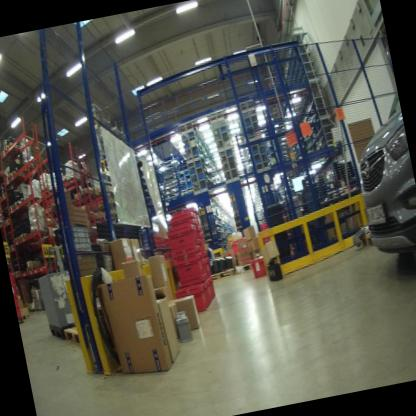pallet: (62, 321, 93, 359), (356, 226, 380, 253), (232, 260, 257, 280), (209, 265, 235, 283), (0, 143, 21, 165), (7, 165, 27, 185), (19, 157, 38, 177), (18, 228, 37, 247), (4, 141, 24, 159), (31, 223, 49, 239), (11, 196, 27, 214), (1, 214, 19, 229), (2, 174, 12, 189), (11, 268, 23, 280), (5, 201, 16, 213), (13, 232, 21, 245), (7, 243, 16, 254), (18, 316, 25, 325)
small_load_carrier: (176, 280, 207, 319), (173, 251, 206, 283), (165, 222, 200, 249), (247, 252, 268, 284), (169, 244, 200, 258), (167, 212, 197, 225), (199, 258, 215, 281), (169, 220, 198, 232), (201, 282, 211, 314), (259, 220, 271, 244), (205, 279, 216, 305), (195, 235, 208, 256), (8, 266, 21, 287), (11, 283, 19, 297), (14, 294, 22, 308), (194, 231, 204, 240), (16, 307, 24, 318), (197, 226, 203, 231)
